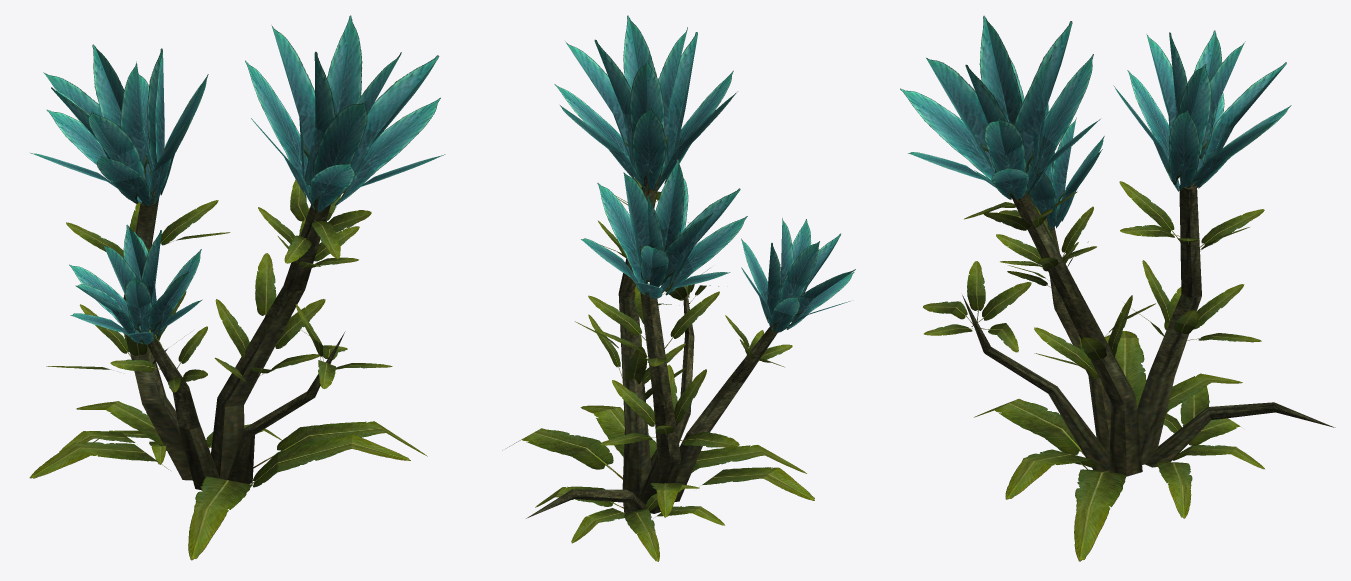
The model's file is SC001Jzhiwu_42.FBX.
3 renders of one model, left to right at view 1: azimuth 30°, elevation 25°; view 2: azimuth 150°, elevation 25°; view 3: azimuth 270°, elevation 25°, orthographic. The views are drawn at different scales.
Parts seen in each view (by area): view 1: SC001Jzhiwu_42; view 2: SC001Jzhiwu_42; view 3: SC001Jzhiwu_42.
Part boxes in pixels (x1,y1,x2,y2): SC001Jzhiwu_42: [29, 15, 445, 560]; SC001Jzhiwu_42: [502, 15, 855, 561]; SC001Jzhiwu_42: [900, 15, 1335, 561].
Bounding box in the file's own units: 1.94 × 2.36 × 2.
